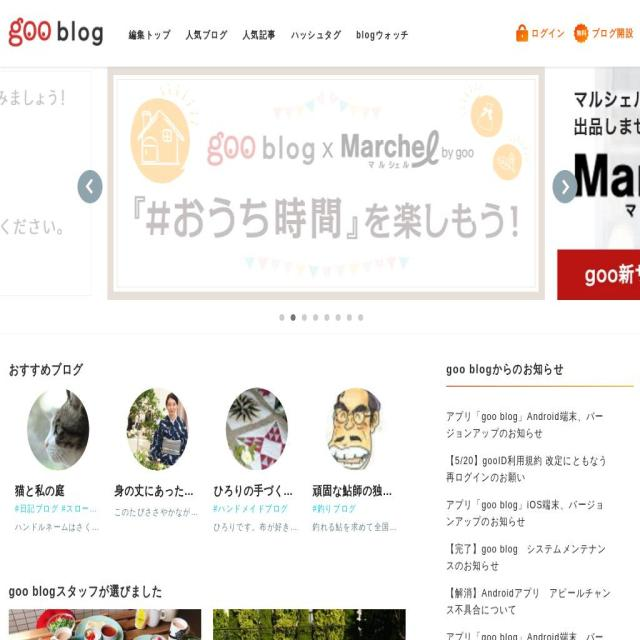button: (109, 67, 546, 300), (0, 67, 96, 300), (559, 67, 640, 300), (108, 388, 208, 538), (207, 388, 307, 538), (306, 388, 406, 538), (9, 388, 108, 538), (213, 609, 406, 640), (9, 609, 201, 640), (8, 18, 102, 46), (565, 23, 634, 44), (506, 22, 566, 45), (552, 169, 578, 203), (78, 169, 102, 203), (290, 314, 296, 321), (324, 314, 330, 321), (302, 314, 307, 321), (313, 314, 318, 321), (347, 314, 352, 321), (358, 314, 363, 321), (280, 314, 284, 321), (336, 314, 340, 321)
heading: (8, 580, 406, 602), (8, 359, 406, 380), (446, 359, 634, 379), (8, 18, 102, 46), (213, 481, 301, 501), (312, 481, 400, 501), (15, 481, 102, 501), (114, 481, 201, 501)
image: (109, 67, 546, 300), (0, 67, 96, 300), (559, 67, 640, 300), (213, 609, 406, 640), (9, 609, 201, 640), (126, 387, 190, 471), (324, 387, 388, 471), (27, 387, 90, 471), (225, 387, 288, 471), (515, 22, 531, 42), (574, 22, 588, 44)
link: (446, 408, 612, 442), (446, 452, 612, 486), (446, 497, 612, 530), (446, 541, 612, 574), (446, 585, 612, 618), (446, 629, 612, 640), (61, 504, 138, 514), (213, 504, 289, 514), (356, 28, 410, 41), (291, 28, 341, 41), (185, 28, 228, 41), (128, 28, 170, 41), (312, 504, 357, 514), (242, 28, 276, 41), (15, 504, 59, 514), (140, 504, 177, 514)
text: (213, 520, 301, 534), (312, 520, 400, 534), (15, 520, 102, 534), (114, 505, 201, 519), (592, 28, 634, 38), (531, 28, 566, 38)
